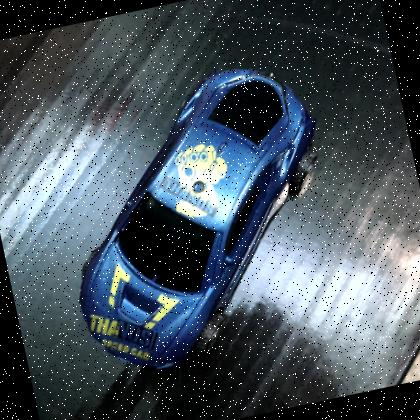Car: (79, 69, 317, 372)
